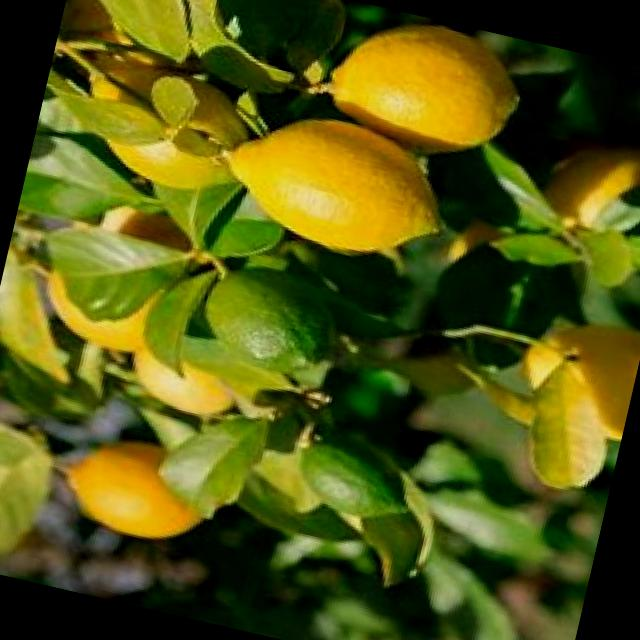lemon: (211, 101, 461, 267), (318, 5, 532, 168)
